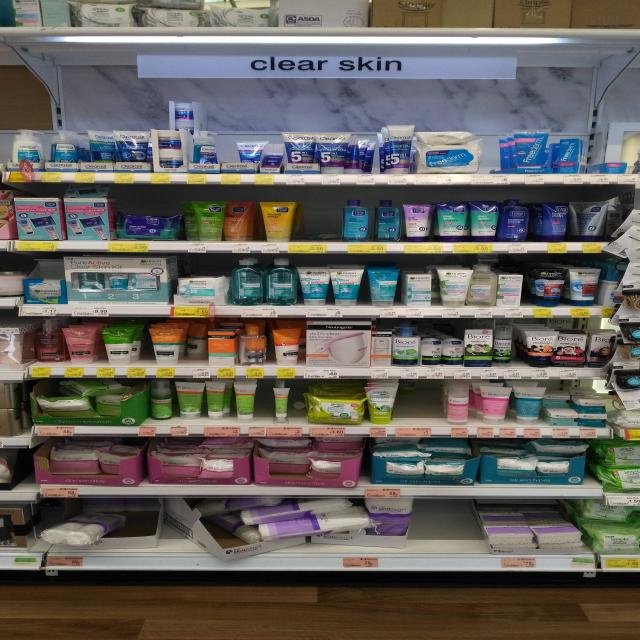void: (3, 502, 42, 570), (446, 499, 478, 571), (1, 443, 37, 505), (302, 192, 335, 254), (482, 128, 513, 186), (1, 317, 29, 381), (421, 500, 443, 572), (351, 128, 376, 184), (167, 198, 193, 250), (422, 382, 444, 438)
